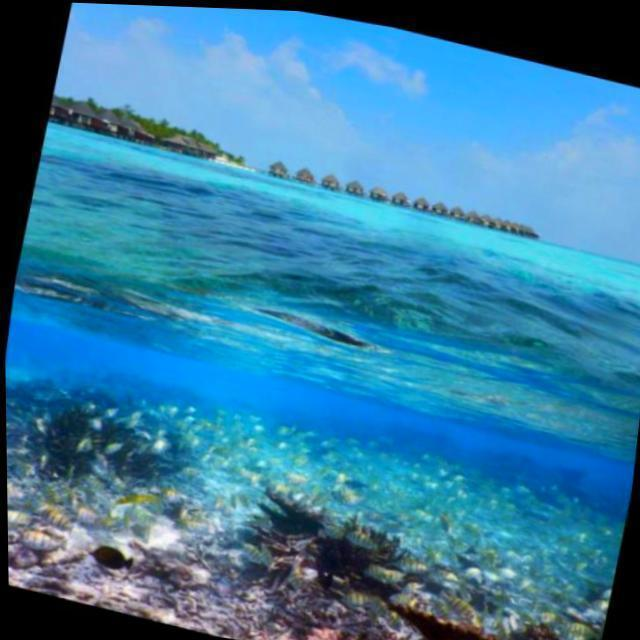Dead Coral: (113, 515, 344, 640)
